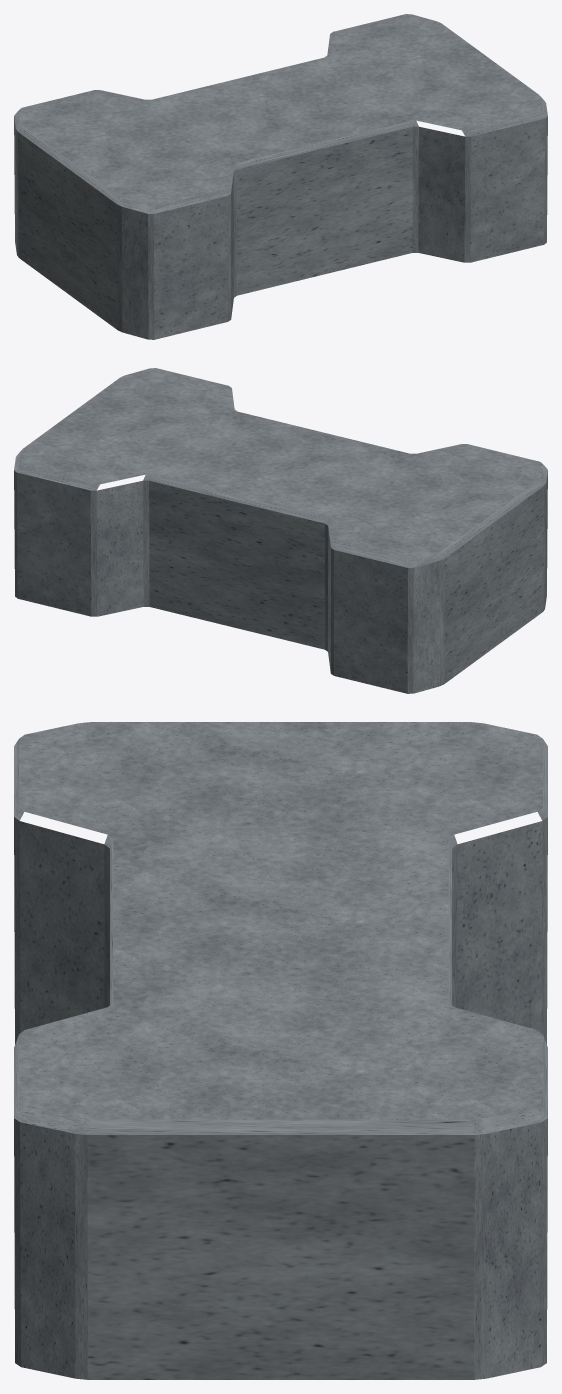
Rendered from concrete-interlocking-paver-i-shape.glb.
3 renders of one model, top to bottom at view 1: azimuth 30°, elevation 25°; view 2: azimuth 150°, elevation 25°; view 3: azimuth 270°, elevation 25°, orthographic. The views are drawn at different scales.
Parts seen in each view (by area): view 1: concrete-interlocking-paver-i-shape; view 2: concrete-interlocking-paver-i-shape; view 3: concrete-interlocking-paver-i-shape.
Part boxes in pixels (box(x1,y1,x2,y2)): concrete-interlocking-paver-i-shape: box(14, 14, 547, 339); concrete-interlocking-paver-i-shape: box(14, 368, 547, 693); concrete-interlocking-paver-i-shape: box(14, 722, 547, 1379).
Size of the model in its own units: 0.23 by 0.068 by 0.128.
Materials: 1 (1 with a texture image).
